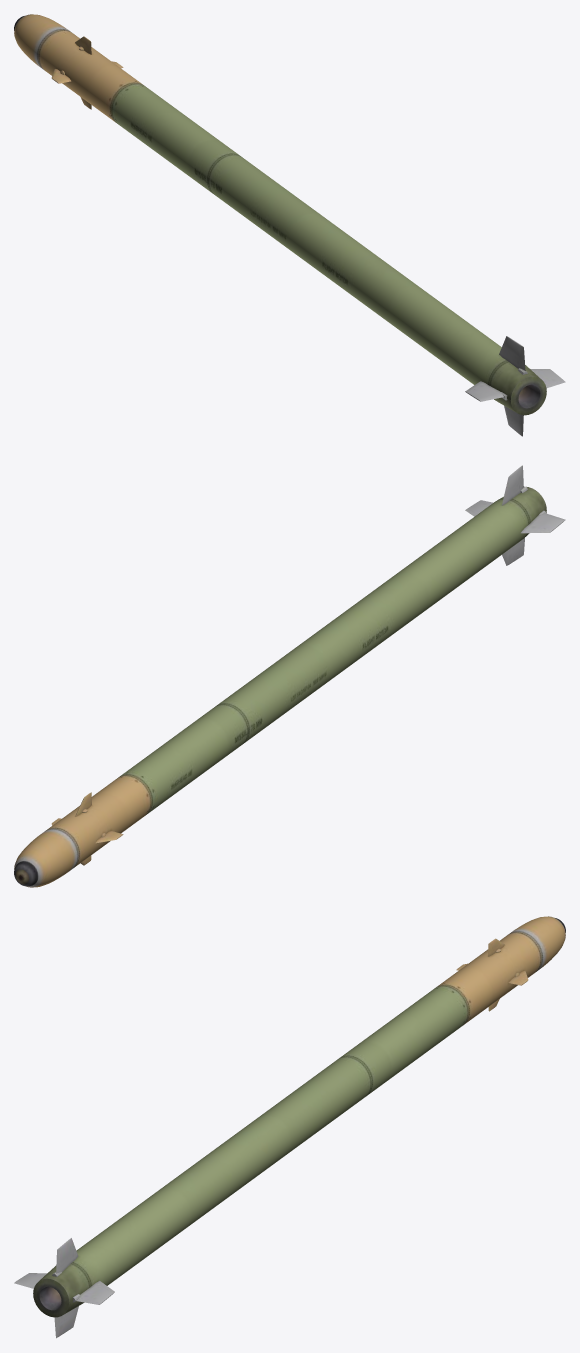
File: msl_stinger.glb
The picture shows the model from 3 angles, top to bottom: view 1: azimuth 30°, elevation 25°; view 2: azimuth 150°, elevation 25°; view 3: azimuth 330°, elevation 25°; orthographic projection.
Visible parts, largest first — view 1: body|STG_M; view 2: body|STG_M; view 3: body|STG_M.
Part boxes in pixels (x1=…): body|STG_M: x1=14, y1=14, x2=565, y2=436; body|STG_M: x1=14, y1=465, x2=565, y2=887; body|STG_M: x1=14, y1=916, x2=565, y2=1338.
Size of the model in its own units: 0.1468 by 0.1468 by 1.52.
1 material, 1 textured.
